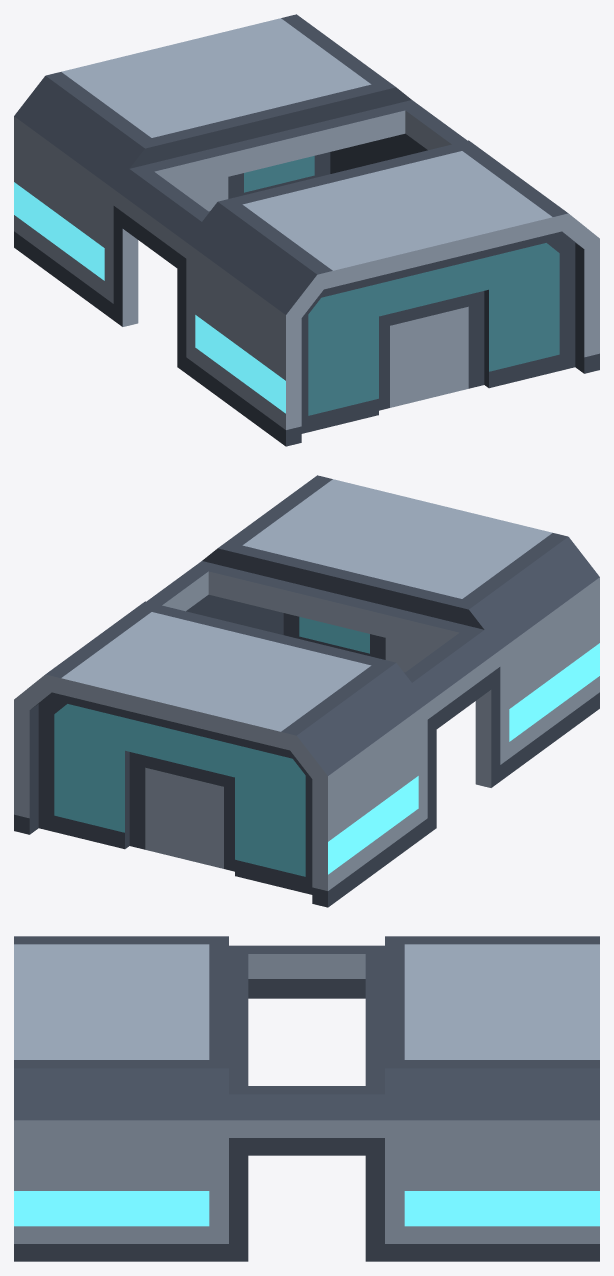
File: hangar_largeA.glb
3 renders of one model, top to bottom at view 1: azimuth 30°, elevation 25°; view 2: azimuth 150°, elevation 25°; view 3: azimuth 270°, elevation 25°, orthographic. The views are drawn at different scales.
Visible parts, largest first — view 1: hangar_largeA, gate.001, gate; view 2: hangar_largeA, gate, gate.001; view 3: hangar_largeA.
Boxes of the visible parts, x1,y1,x2,y2 form: hangar_largeA: [14, 14, 599, 446]; gate.001: [301, 231, 575, 433]; gate: [178, 152, 330, 211]; hangar_largeA: [14, 475, 599, 907]; gate: [38, 692, 312, 894]; gate.001: [283, 613, 435, 672]; hangar_largeA: [14, 936, 599, 1261].
Bounding box in the file's own units: 2 × 1 × 3.
